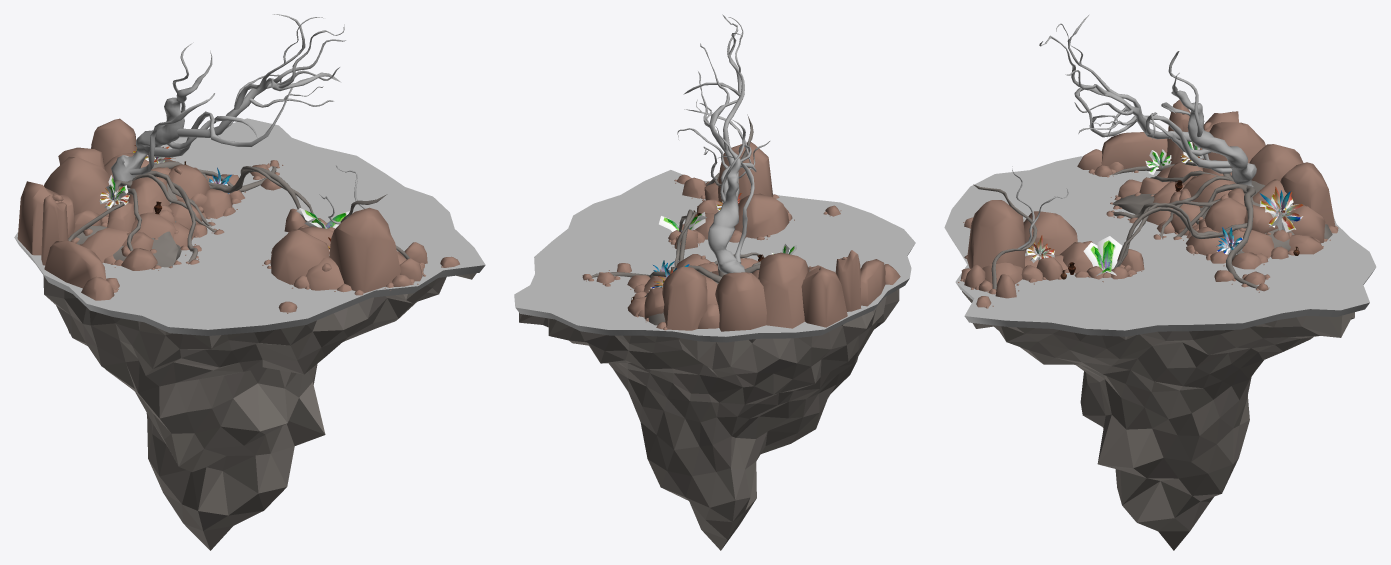
File: Asteroid_Big_1.fbx
The picture shows the model from 3 angles, left to right: view 1: azimuth 30°, elevation 25°; view 2: azimuth 150°, elevation 25°; view 3: azimuth 270°, elevation 25°; orthographic projection. The views are drawn at different scales.
Parts seen in each view (by area): view 1: Plane_18; view 2: Plane_18; view 3: Plane_18.
Boxes of the visible parts, x1,y1,x2,y2 form: Plane_18: (14, 14, 485, 550); Plane_18: (514, 14, 915, 550); Plane_18: (944, 14, 1376, 550).
Bounding box in the file's own units: 150 × 218 × 156.
Materials: 106 (102 with a texture image).
